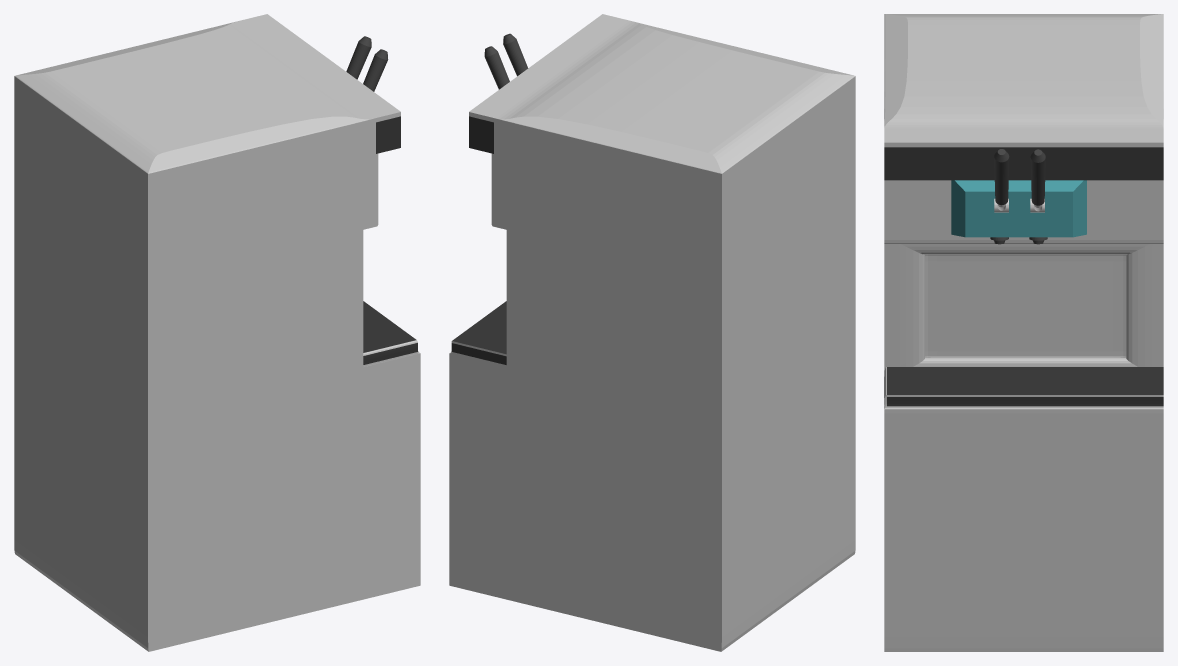
File: ice cream machine.fbx
The picture shows the model from 3 angles, left to right: view 1: azimuth 30°, elevation 25°; view 2: azimuth 150°, elevation 25°; view 3: azimuth 270°, elevation 25°; orthographic projection. The views are drawn at different scales.
Parts seen in each view (by area): view 1: Cube, Cylinder.003; view 2: Cube, Cylinder.003; view 3: Cube, Cube.001, Cylinder.003, Cylinder.002.
Boxes of the visible parts, x1,y1,x2,y2 form: Cube: (14,14,420,651); Cylinder.003: (346,36,371,79); Cube: (449,14,855,651); Cylinder.003: (484,46,509,89); Cube: (884,14,1163,651); Cube.001: (951,180,1086,237); Cylinder.003: (1030,149,1045,211); Cylinder.002: (994,149,1009,210).
Bounding box in the file's own units: 275 × 435 × 215.
